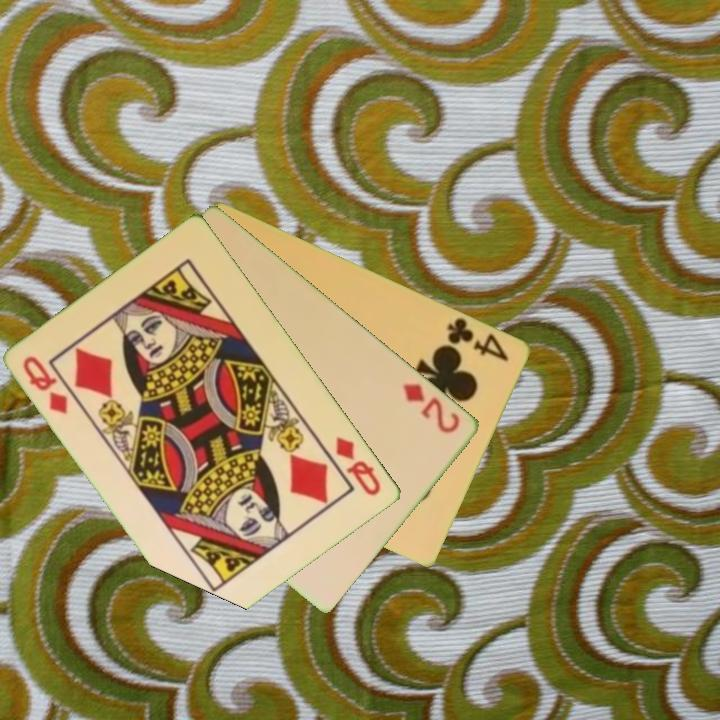2d: (399, 379, 464, 436)
4c: (444, 313, 513, 364)
Qd: (332, 433, 385, 499), (20, 352, 72, 417)
